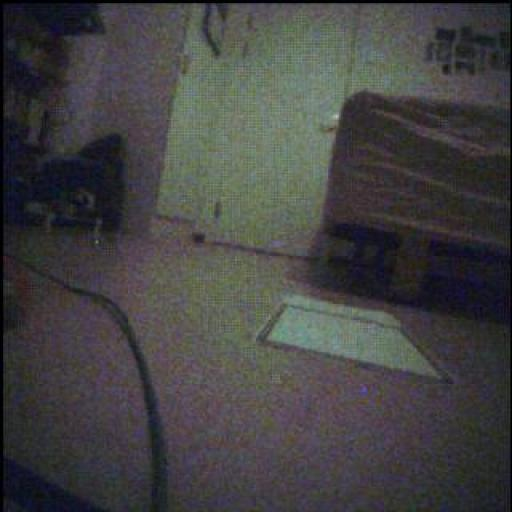pad: (259, 296, 452, 384)
